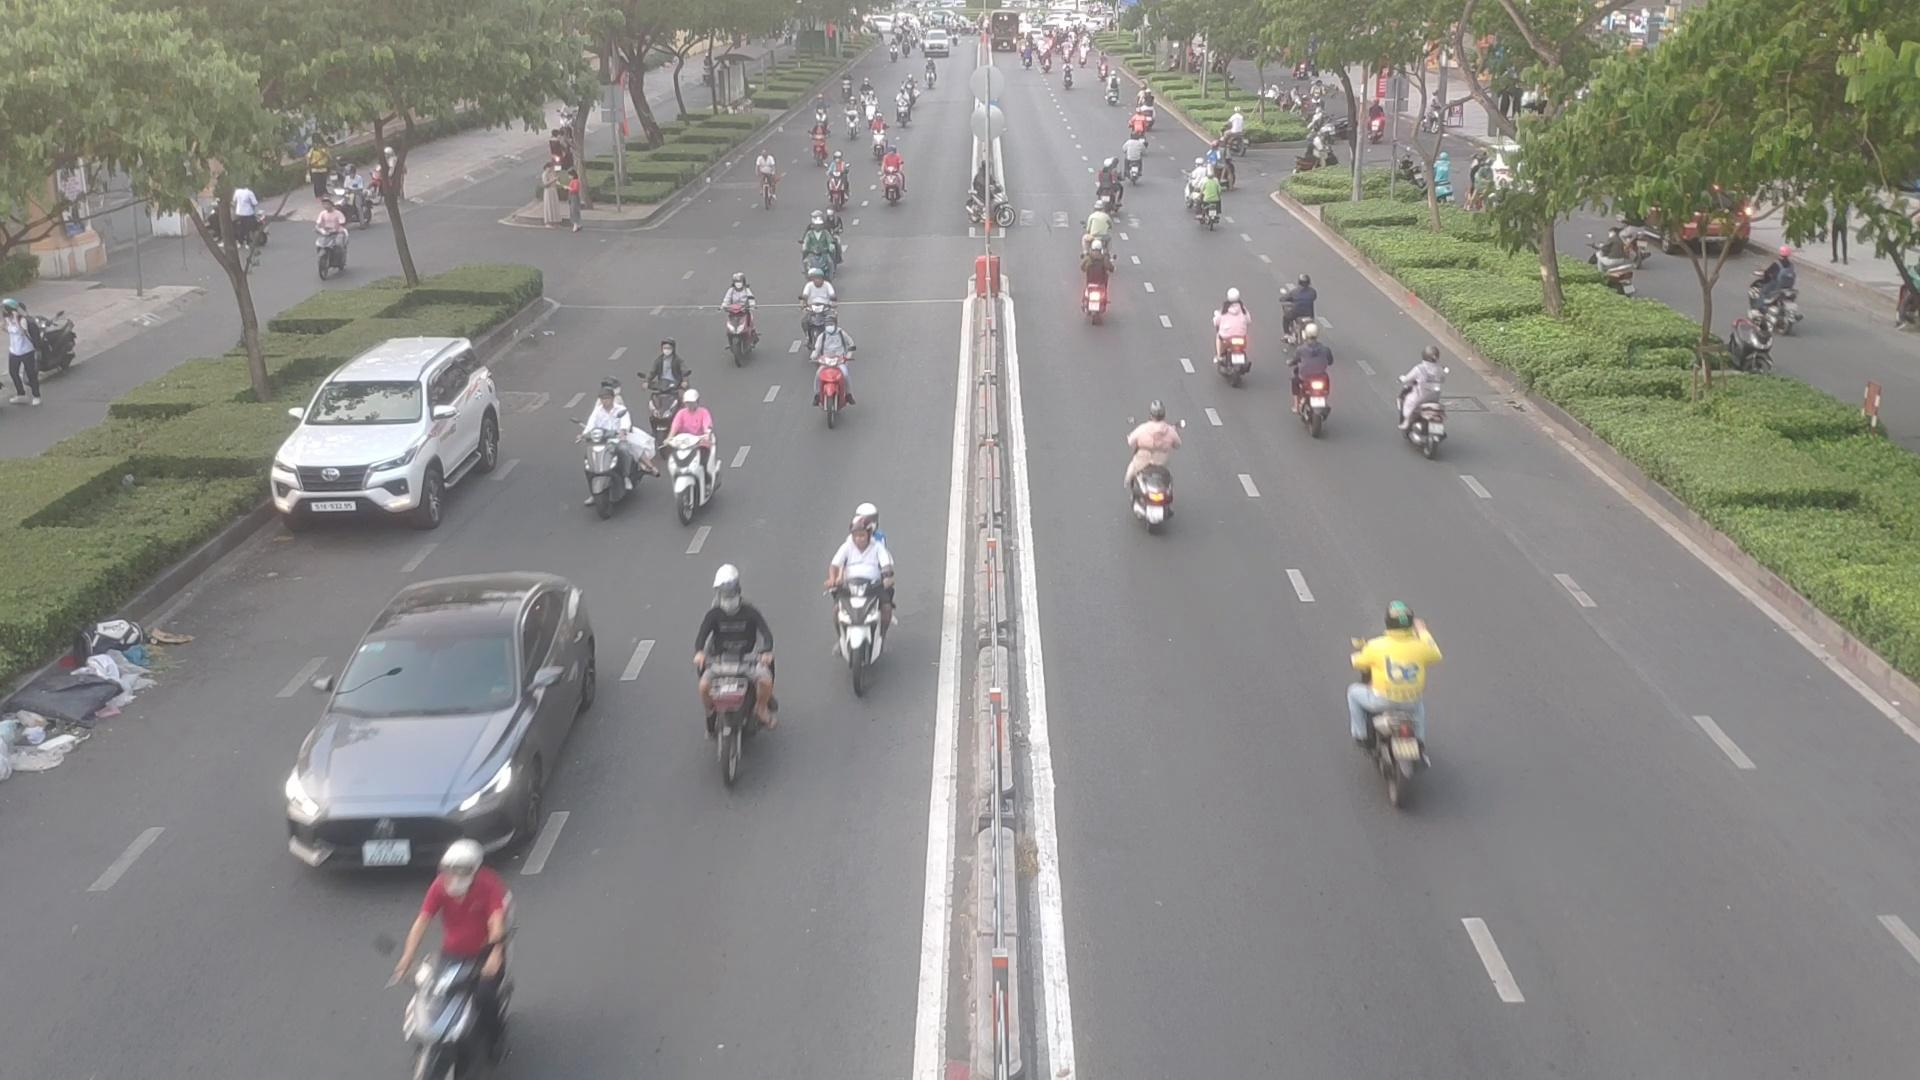car: (277, 576, 587, 872), (276, 332, 517, 524)
motorbike: (380, 865, 517, 1076), (1348, 595, 1453, 793), (684, 589, 775, 779), (829, 512, 899, 698), (580, 396, 657, 518), (666, 394, 735, 526), (1116, 410, 1182, 533), (1400, 343, 1464, 452), (808, 311, 866, 422), (1284, 334, 1338, 434), (709, 273, 761, 367), (1215, 293, 1261, 386), (1068, 243, 1118, 324), (637, 339, 691, 413), (800, 220, 851, 282), (1275, 274, 1323, 339), (1182, 167, 1222, 225), (873, 152, 909, 208), (1207, 137, 1244, 183), (1118, 138, 1149, 186)
